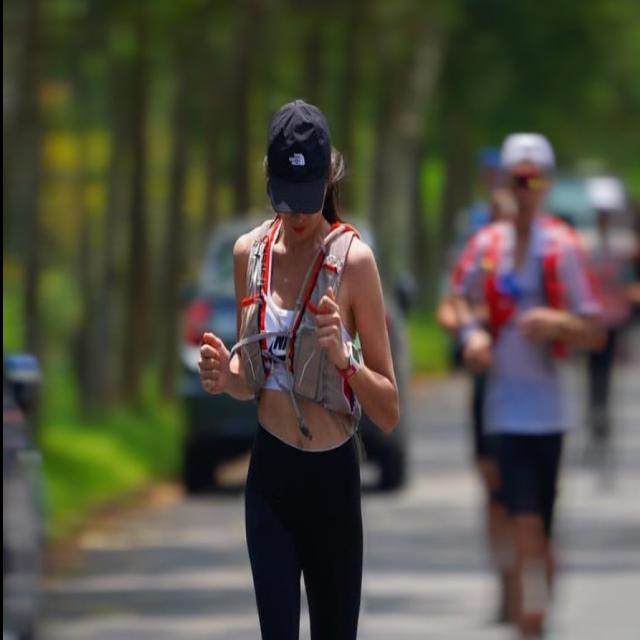illegal_helmet: (259, 94, 336, 250)
